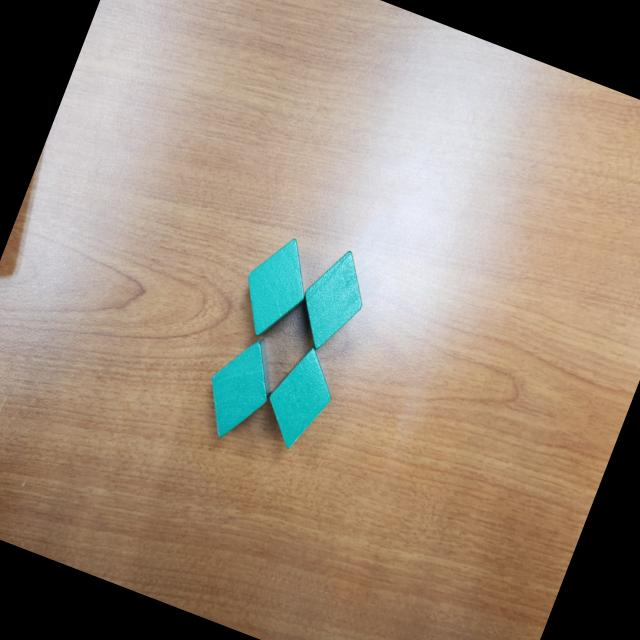green: (194, 326, 289, 448), (228, 228, 324, 348), (253, 340, 347, 459), (286, 242, 379, 362)
